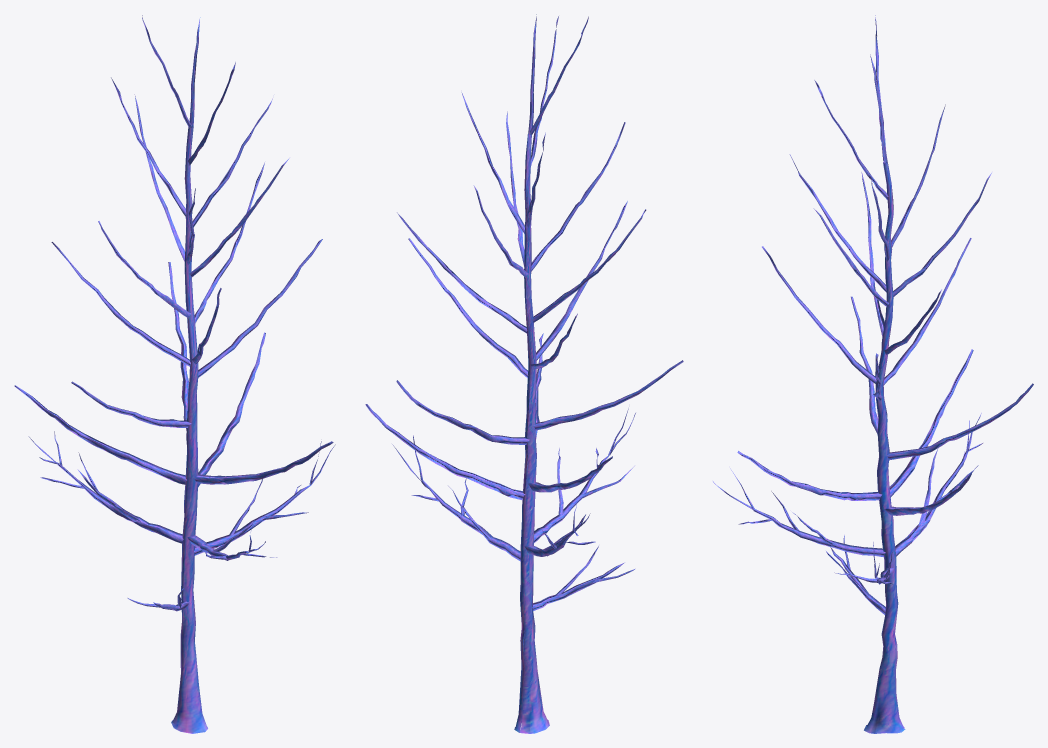
File: Presid_Tree_trunk.FBX
3 renders of one model, left to right at view 1: azimuth 30°, elevation 25°; view 2: azimuth 150°, elevation 25°; view 3: azimuth 270°, elevation 25°, orthographic. The views are drawn at different scales.
Visible parts, largest first — view 1: Presid_Tree_trunk; view 2: Presid_Tree_trunk; view 3: Presid_Tree_trunk.
Part boxes in pixels (<box>): Presid_Tree_trunk: <box>14,15,335,733</box>; Presid_Tree_trunk: <box>365,14,683,733</box>; Presid_Tree_trunk: <box>713,15,1033,733</box>.
Size of the model in its own units: 6.06 by 15.01 by 6.35.
